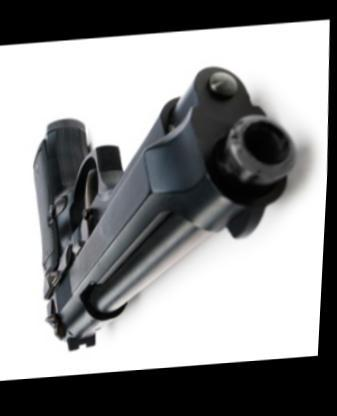pistol: (19, 52, 304, 364)
